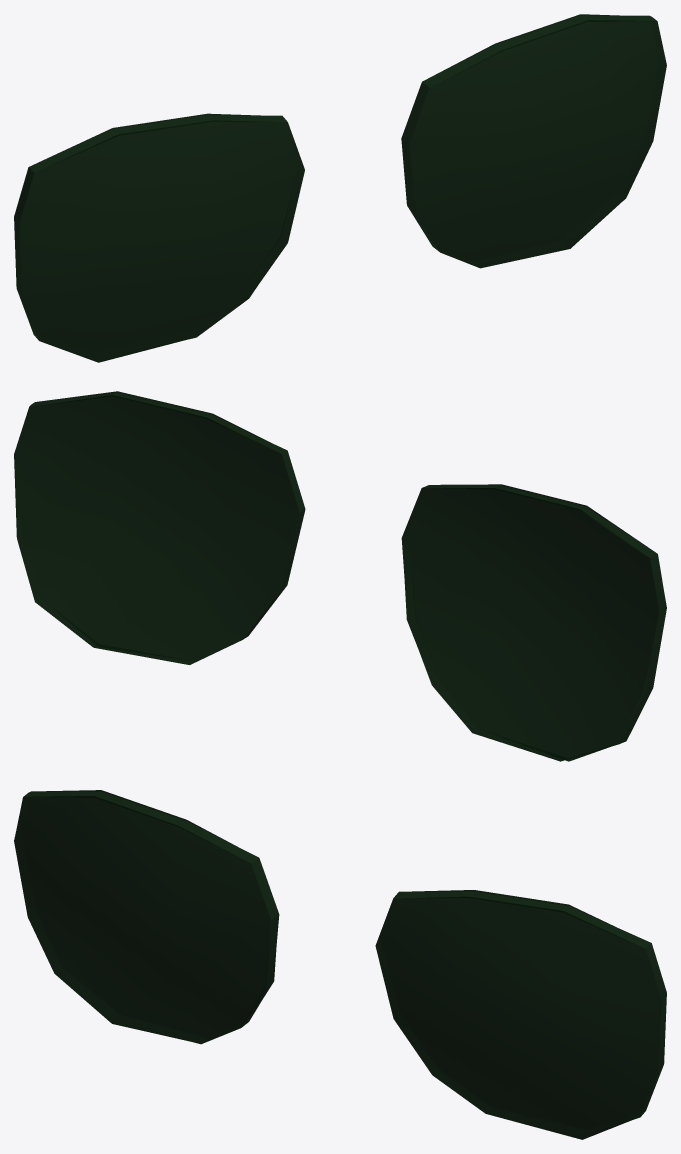
File: Lenses.obj
3 renders of one model, top to bottom at view 1: azimuth 30°, elevation 25°; view 2: azimuth 150°, elevation 25°; view 3: azimuth 330°, elevation 25°, orthographic.
Parts seen in each view (by area): view 1: Lenses; view 2: Lenses; view 3: Lenses.
Part boxes in pixels (x1,y1,x2,y2): Lenses: (14, 14, 666, 362); Lenses: (14, 391, 666, 761); Lenses: (14, 790, 666, 1139).
Size of the model in its own units: 11.87 by 4.28 by 1.14.
